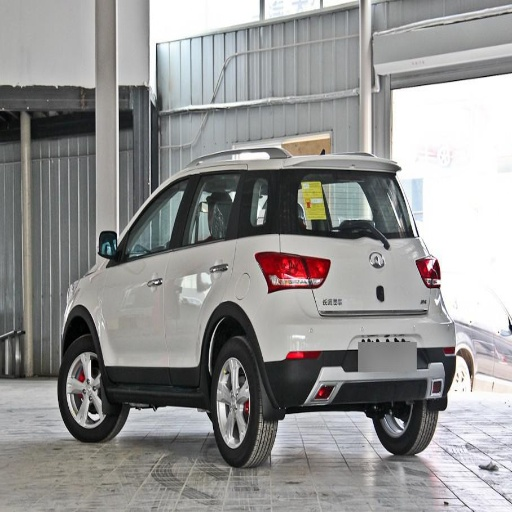back_bumper: (249, 288, 453, 412)
back_glass: (222, 173, 412, 234)
back_left_door: (158, 172, 234, 383)
trunk: (308, 240, 429, 322)
